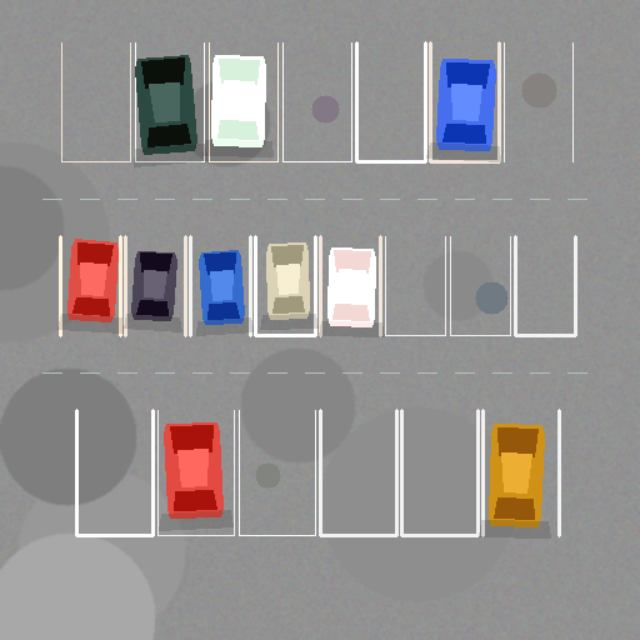space-empty: (76, 410, 153, 535), (239, 410, 315, 535), (320, 410, 396, 535), (401, 410, 477, 535), (61, 43, 130, 161), (282, 43, 351, 161), (356, 43, 425, 161), (504, 43, 572, 161), (385, 236, 445, 335), (450, 236, 510, 335), (515, 236, 575, 335)
space-occupied: (157, 410, 234, 535), (483, 410, 559, 535), (135, 43, 204, 161), (209, 43, 278, 161), (430, 43, 499, 161), (60, 236, 120, 335), (125, 236, 185, 335), (190, 236, 250, 335), (255, 236, 315, 335), (320, 236, 380, 335)
